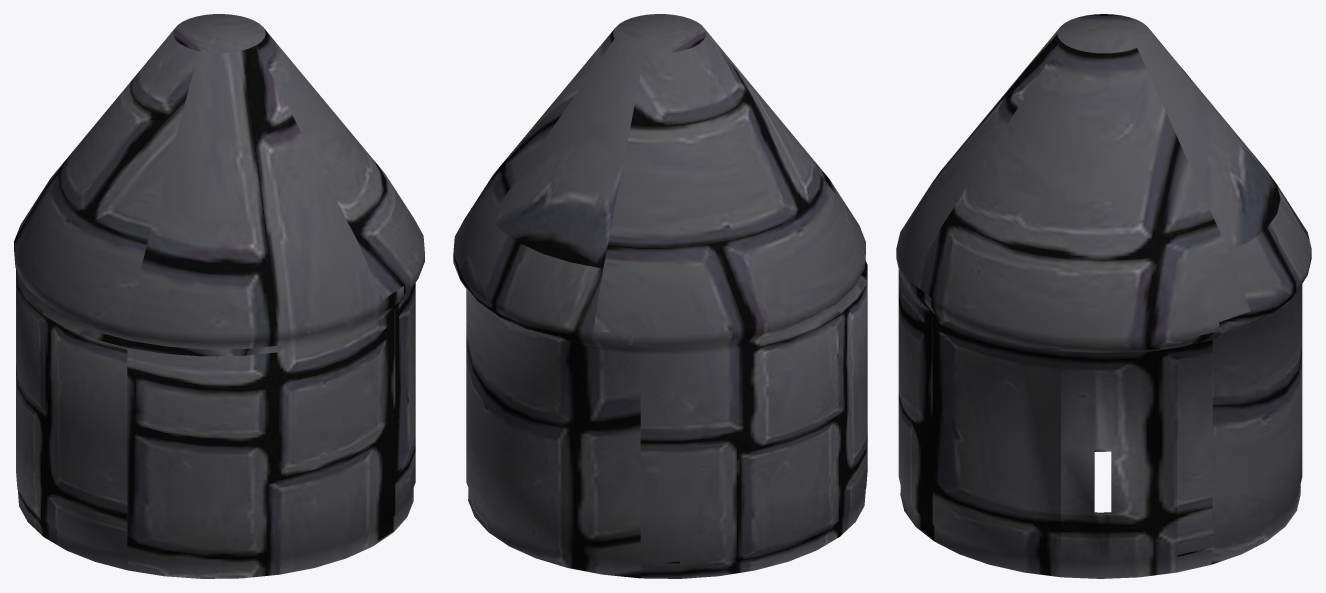
Rendered from TowerInnerWalls.fbx.
The picture shows the model from 3 angles, left to right: view 1: azimuth 30°, elevation 25°; view 2: azimuth 150°, elevation 25°; view 3: azimuth 270°, elevation 25°; orthographic projection.
Visible parts, largest first — view 1: Tower Walls and Cieling; view 2: Tower Walls and Cieling; view 3: Tower Walls and Cieling.
Boxes of the visible parts, bbox=[...] form: Tower Walls and Cieling: bbox=[14, 14, 424, 578]; Tower Walls and Cieling: bbox=[453, 14, 867, 578]; Tower Walls and Cieling: bbox=[896, 14, 1311, 578].
Size of the model in its own units: 2311 by 2839 by 2308.
